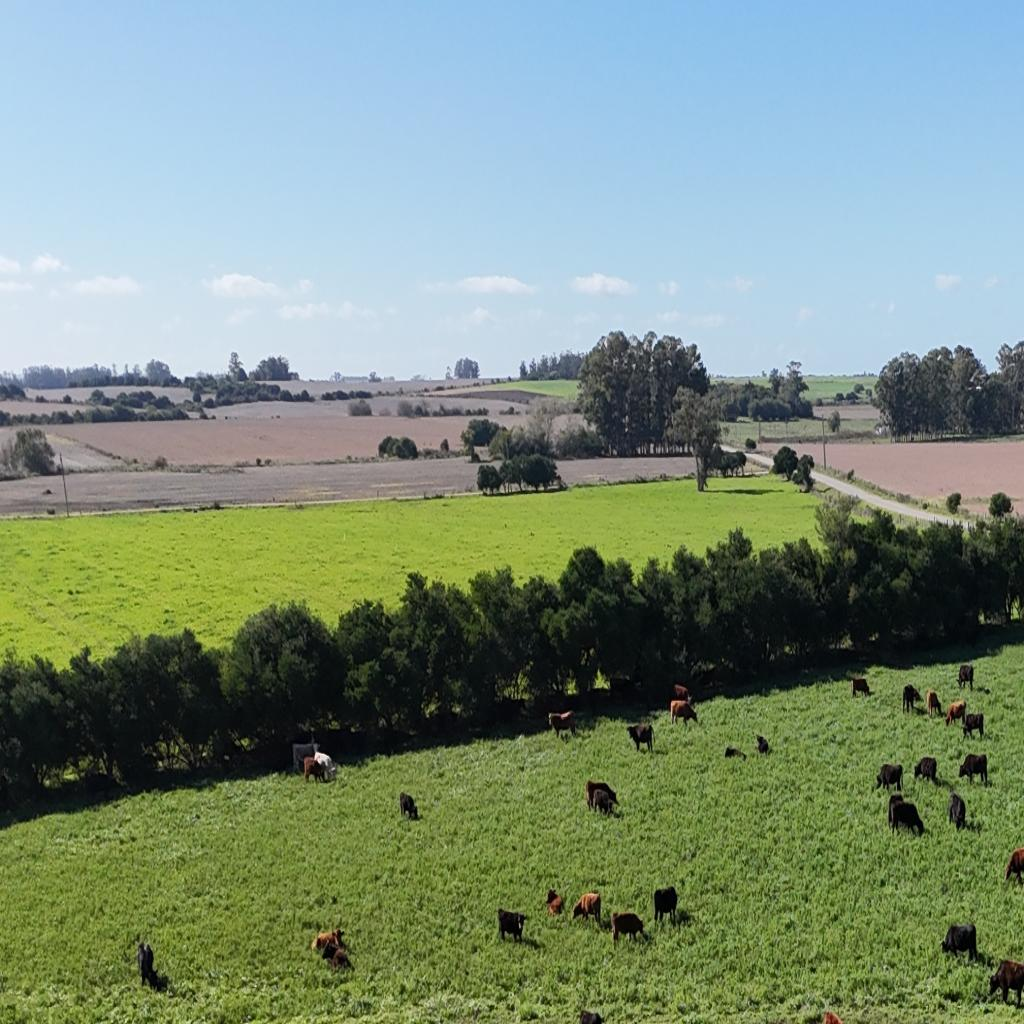cow: (988, 958, 1024, 1008), (941, 922, 978, 962), (888, 796, 924, 837), (136, 940, 158, 990), (612, 910, 644, 944), (497, 908, 526, 944), (572, 892, 601, 926), (585, 780, 616, 811), (654, 886, 678, 926), (959, 753, 988, 786), (312, 928, 346, 954), (626, 722, 653, 754), (876, 762, 903, 794), (670, 699, 698, 729), (548, 710, 575, 740), (1004, 850, 1024, 890), (948, 790, 966, 832), (914, 756, 938, 786), (962, 712, 985, 740), (944, 700, 966, 728), (902, 684, 922, 714), (304, 756, 326, 782), (398, 792, 418, 820), (329, 949, 351, 971), (546, 891, 564, 916), (958, 664, 974, 691), (851, 678, 871, 699), (926, 689, 941, 717), (672, 684, 692, 704), (579, 1008, 604, 1024), (724, 745, 746, 759), (755, 735, 770, 755), (823, 1010, 843, 1024), (572, 902, 586, 920), (913, 759, 923, 781), (46, 507, 56, 516)
